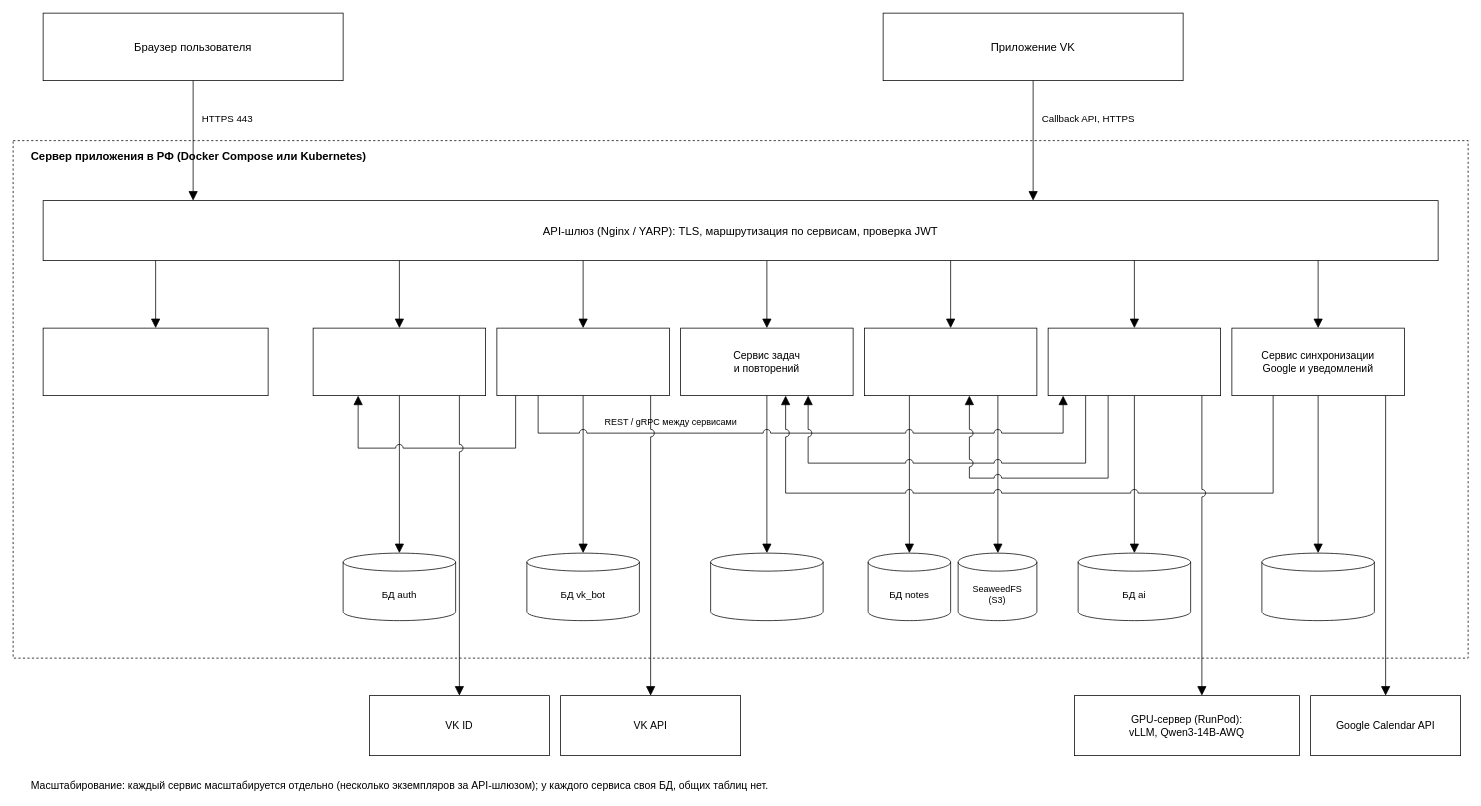
Image size: 1481x806. Some labels were removed from this diagram. Here are the shapes that lost their labels. From the top down, the centre of each, then its label:
(155,361): Frontend Next.js
(399,361): Сервис авторизации (VK ID, JWT)
(582,361): Сервис VK-бота (Callback API)
(950,361): Сервис заметок и поиска
(1134,361): Сервис ИИ-ассистента
(766,586): БД tasks
(1317,586): БД sync
